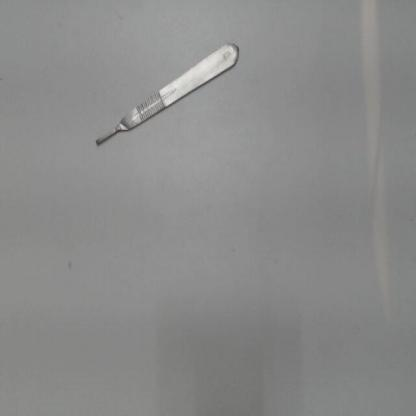No.3 BP Handle: (88, 26, 248, 155)
